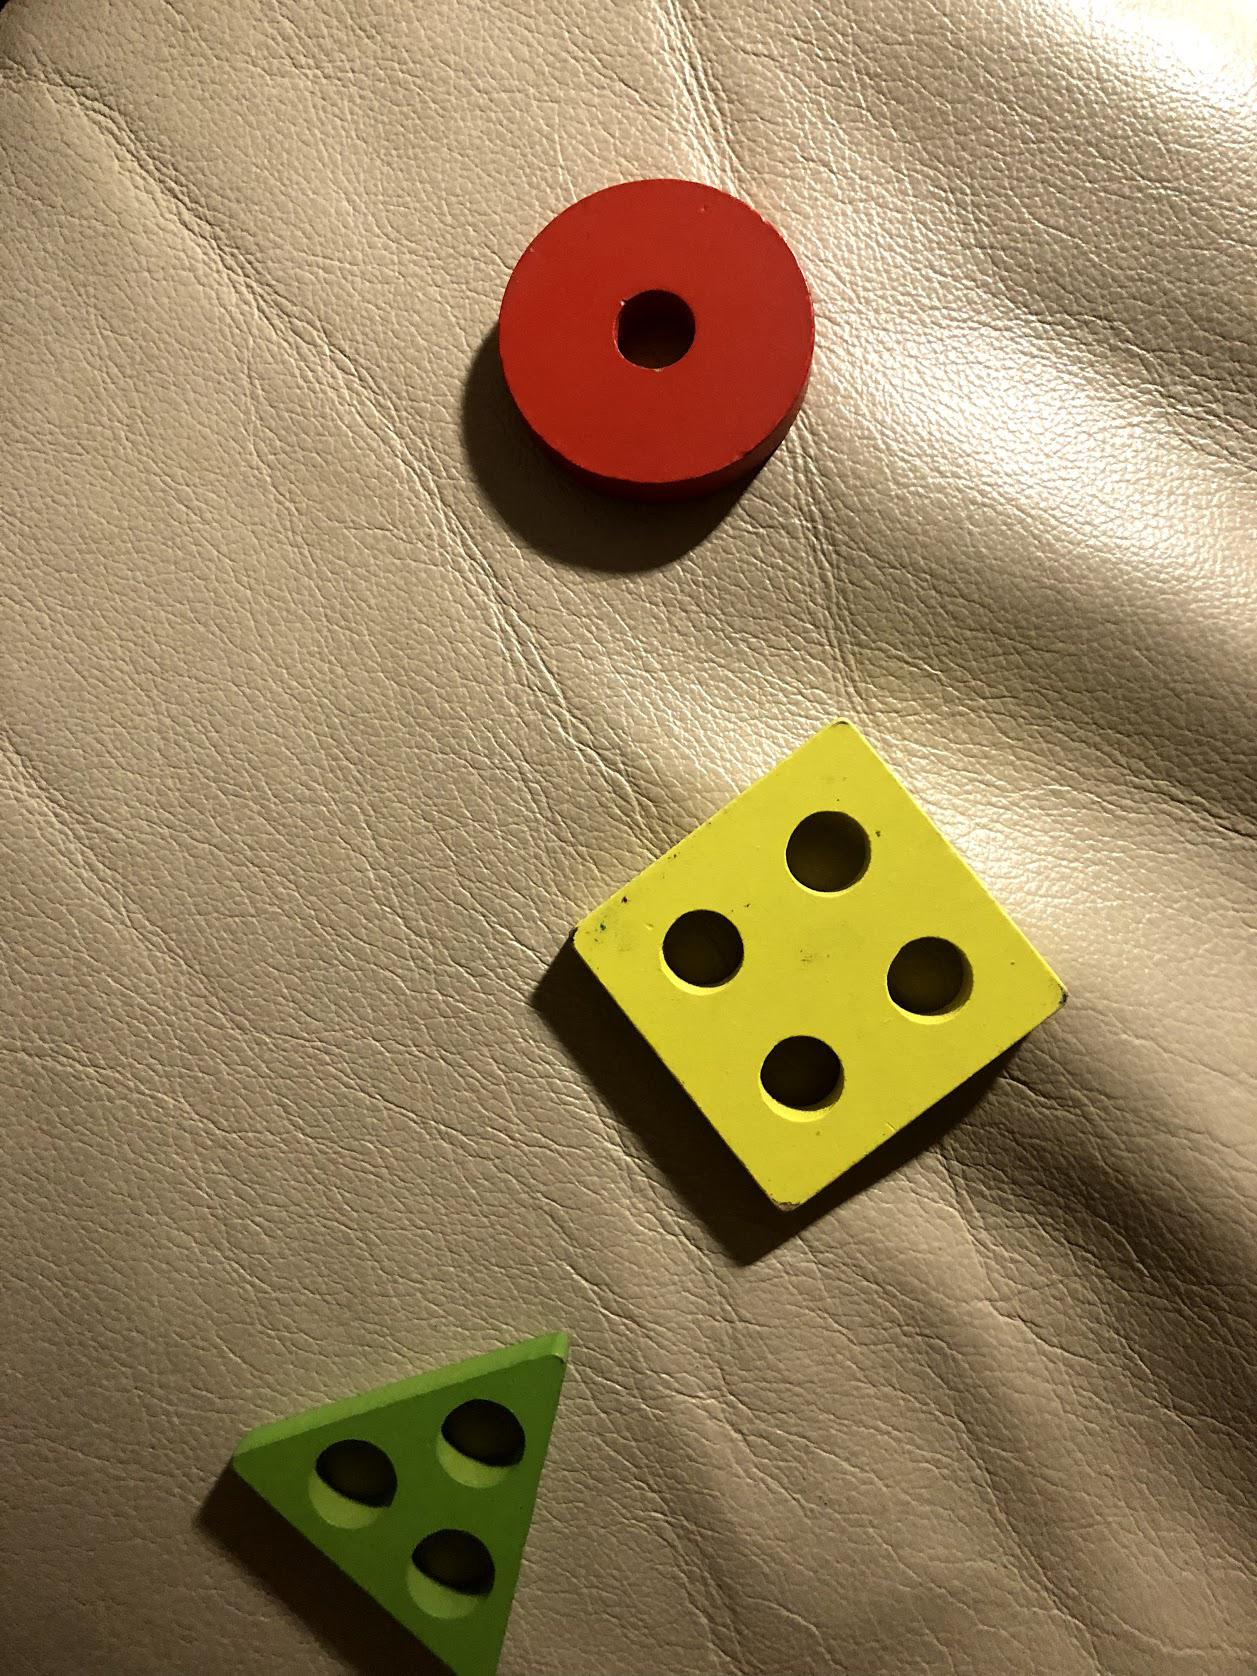Circle: (493, 176, 819, 492)
Square: (553, 714, 1073, 1218)
Triangle: (223, 1341, 580, 1676)
